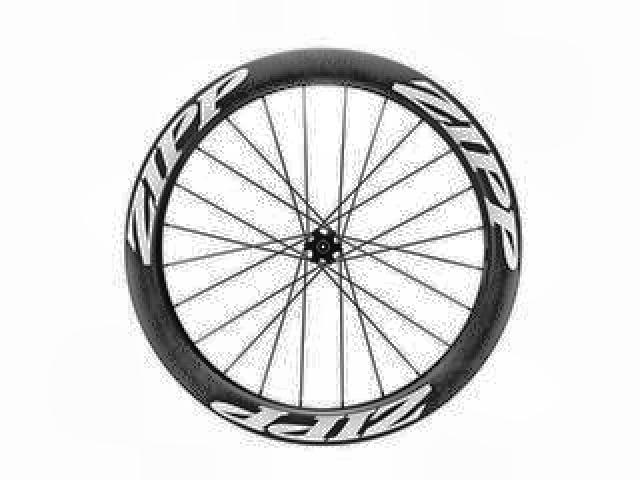wheel: (121, 45, 526, 452)
